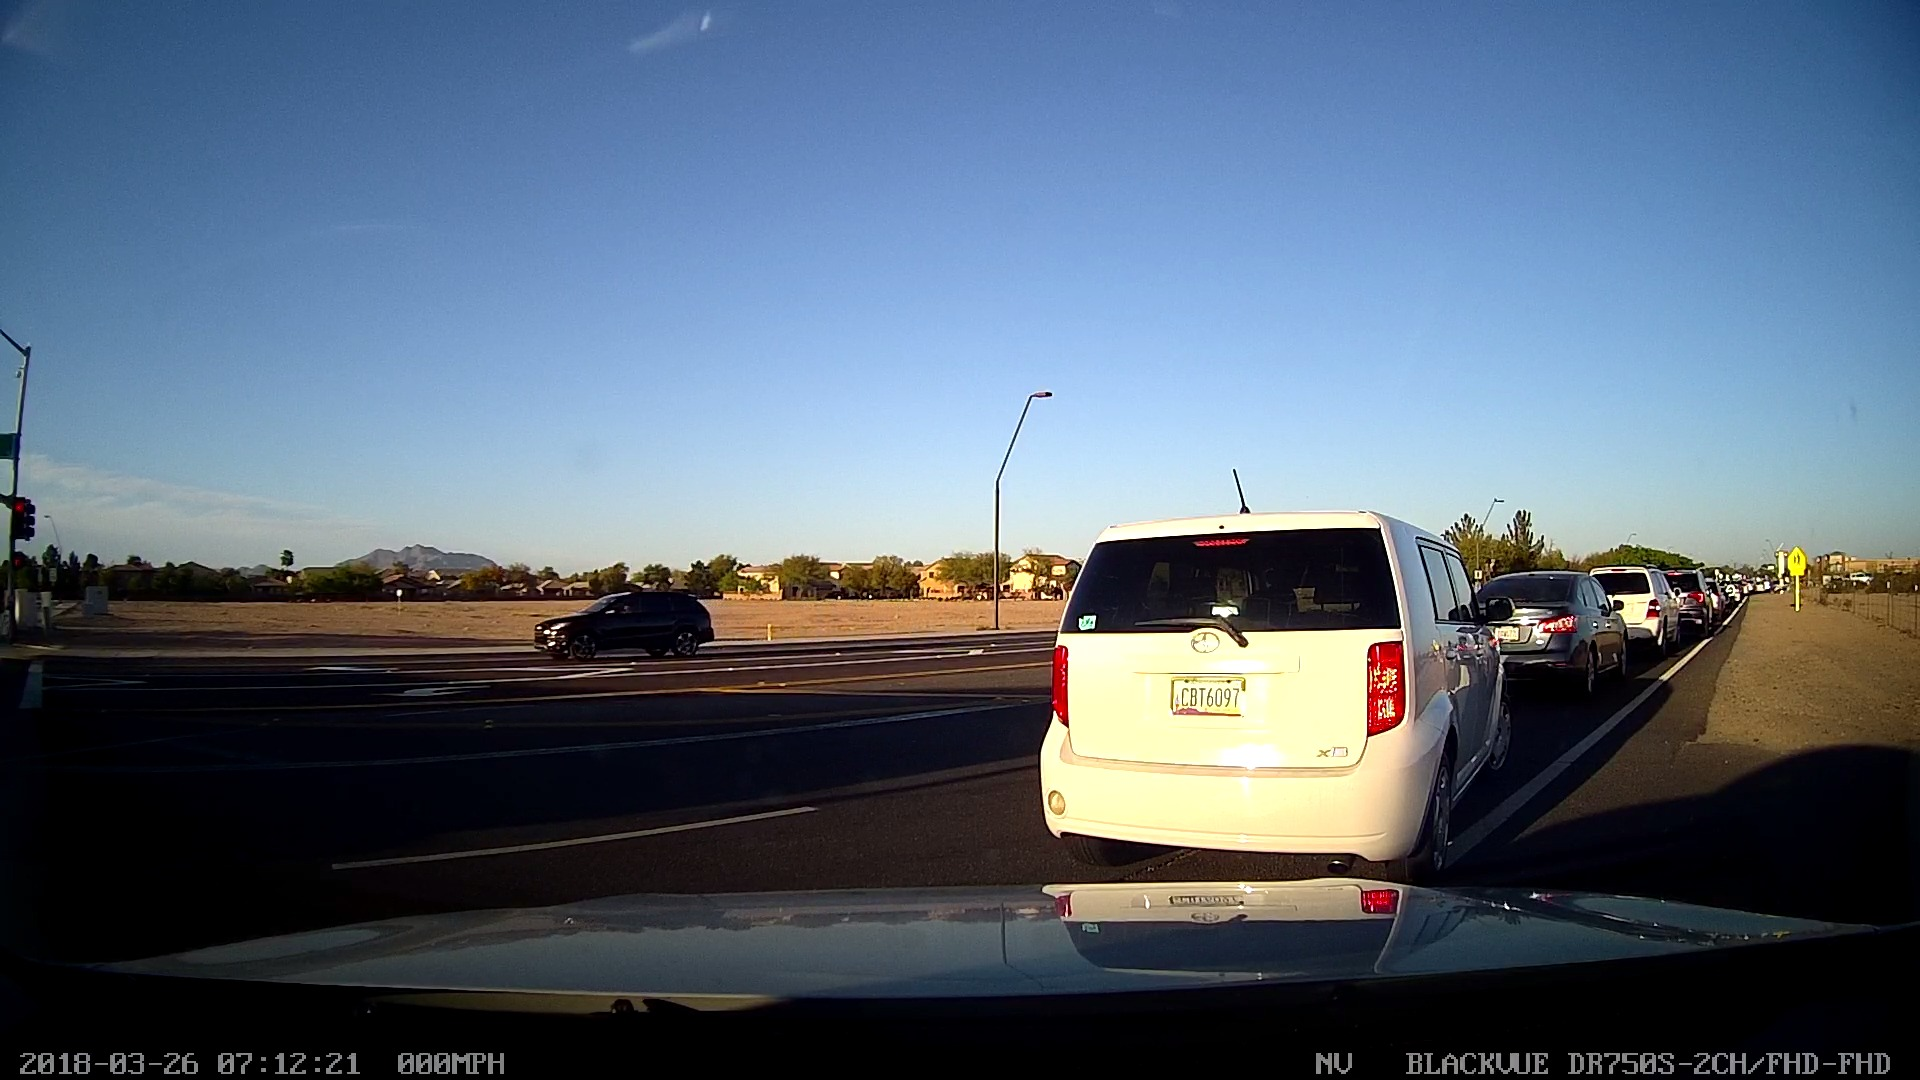plate: (1164, 671, 1245, 717)
vehicle: (1031, 515, 1507, 860), (1470, 566, 1614, 695), (525, 583, 715, 660), (1602, 561, 1680, 651)
